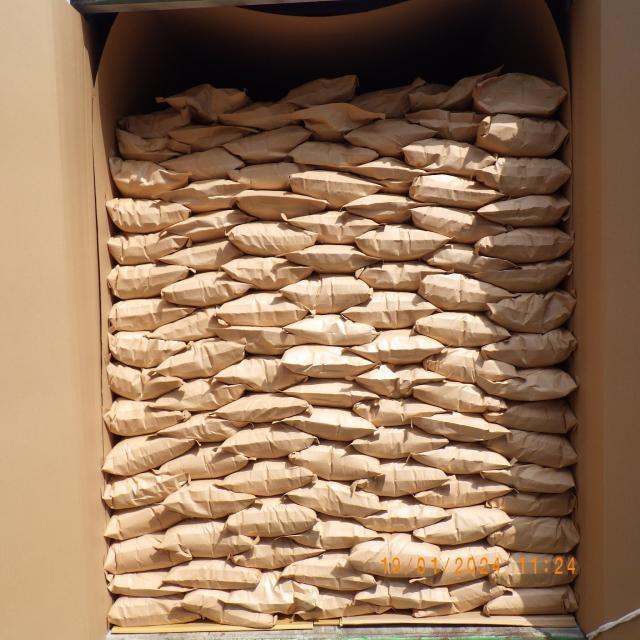gunny_bag: (476, 361, 581, 403), (475, 110, 570, 156), (214, 316, 313, 358), (103, 436, 196, 479), (226, 572, 320, 614), (422, 270, 518, 310), (186, 589, 279, 630), (411, 204, 506, 244), (424, 347, 524, 385), (417, 503, 512, 543), (290, 443, 382, 484), (484, 396, 577, 436), (488, 430, 581, 470), (162, 269, 252, 310), (110, 152, 190, 198), (281, 276, 373, 316), (472, 76, 568, 114), (475, 158, 571, 196), (282, 552, 377, 590), (286, 586, 392, 620), (290, 479, 382, 518), (415, 408, 509, 446), (105, 532, 190, 574), (280, 342, 376, 379), (482, 330, 578, 367), (343, 292, 436, 330), (487, 520, 580, 558), (414, 312, 512, 348), (104, 499, 186, 542), (292, 101, 384, 138), (236, 187, 328, 224), (276, 406, 378, 439), (104, 360, 184, 402), (412, 381, 510, 415), (487, 293, 577, 330), (102, 474, 192, 511), (216, 292, 308, 328), (424, 545, 511, 583), (168, 480, 254, 518), (353, 539, 443, 575), (227, 126, 312, 164), (226, 220, 317, 255), (108, 264, 195, 300), (168, 556, 260, 590), (416, 584, 513, 616), (166, 519, 252, 555), (160, 84, 248, 119), (477, 230, 573, 262), (484, 586, 580, 618), (357, 261, 450, 294), (489, 555, 582, 588), (348, 118, 433, 154), (412, 172, 502, 206), (108, 596, 202, 628), (292, 170, 380, 204), (157, 342, 245, 376), (152, 378, 245, 410), (162, 210, 252, 243), (288, 211, 378, 244), (226, 503, 316, 536), (358, 499, 448, 532), (415, 478, 514, 508), (412, 444, 510, 474), (216, 358, 305, 391), (355, 364, 441, 398), (405, 142, 496, 174), (358, 228, 451, 259), (478, 195, 572, 225), (356, 464, 450, 494), (221, 256, 309, 288), (286, 316, 376, 347), (490, 462, 577, 494), (354, 427, 446, 457), (353, 76, 423, 115), (158, 413, 236, 448), (161, 448, 252, 478), (352, 398, 449, 426), (342, 194, 435, 223), (228, 462, 312, 494), (106, 402, 192, 433), (110, 332, 184, 368), (114, 128, 192, 162), (354, 584, 456, 610), (225, 428, 316, 457), (106, 233, 191, 264), (484, 491, 578, 519), (216, 396, 312, 423), (410, 74, 486, 108), (370, 328, 443, 363), (228, 539, 322, 566), (110, 298, 194, 328), (407, 106, 483, 139), (296, 242, 372, 275), (107, 200, 190, 230), (431, 244, 515, 273), (106, 568, 192, 596), (284, 382, 376, 408), (150, 306, 222, 339), (287, 522, 378, 548), (163, 242, 240, 272), (474, 263, 574, 286), (288, 74, 357, 106), (358, 156, 423, 188), (232, 162, 306, 190), (173, 178, 242, 208), (292, 142, 378, 166), (232, 100, 304, 128), (172, 151, 247, 176), (122, 109, 194, 133), (166, 125, 243, 146)
